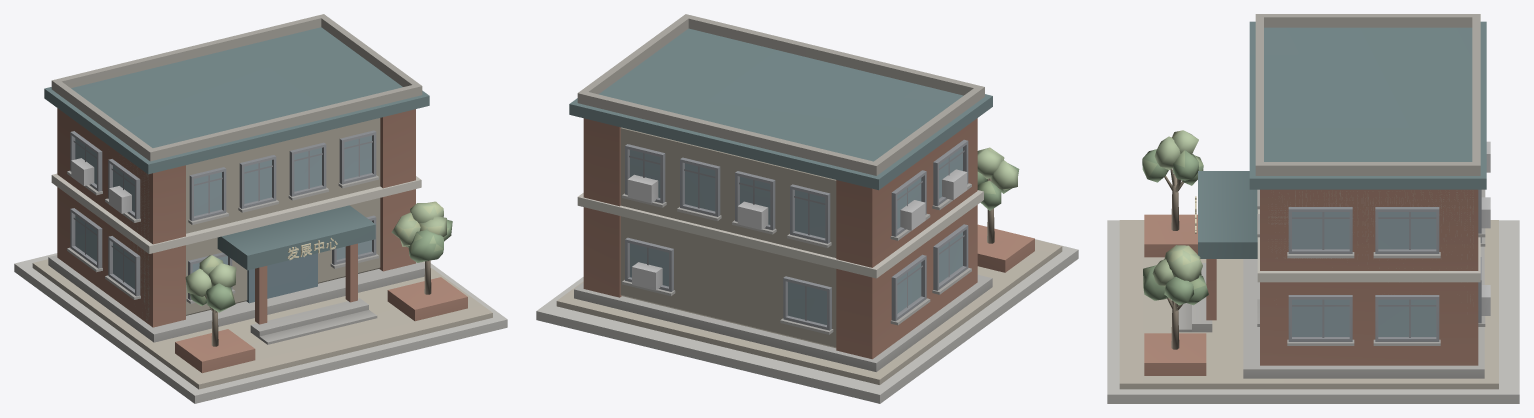
Rendered from center-town.glb.
3 views of the same model, side by side, from view 1: azimuth 30°, elevation 25°; view 2: azimuth 150°, elevation 25°; view 3: azimuth 270°, elevation 25° (orthographic). The views are drawn at different scales.
Visible parts, largest first — view 1: center-town; view 2: center-town; view 3: center-town.
Boxes of the visible parts, <box> form: center-town: <box>14,14,507,403</box>; center-town: <box>536,14,1078,403</box>; center-town: <box>1107,14,1519,403</box>.
Size of the model in its own units: 2 by 1.22 by 2.
